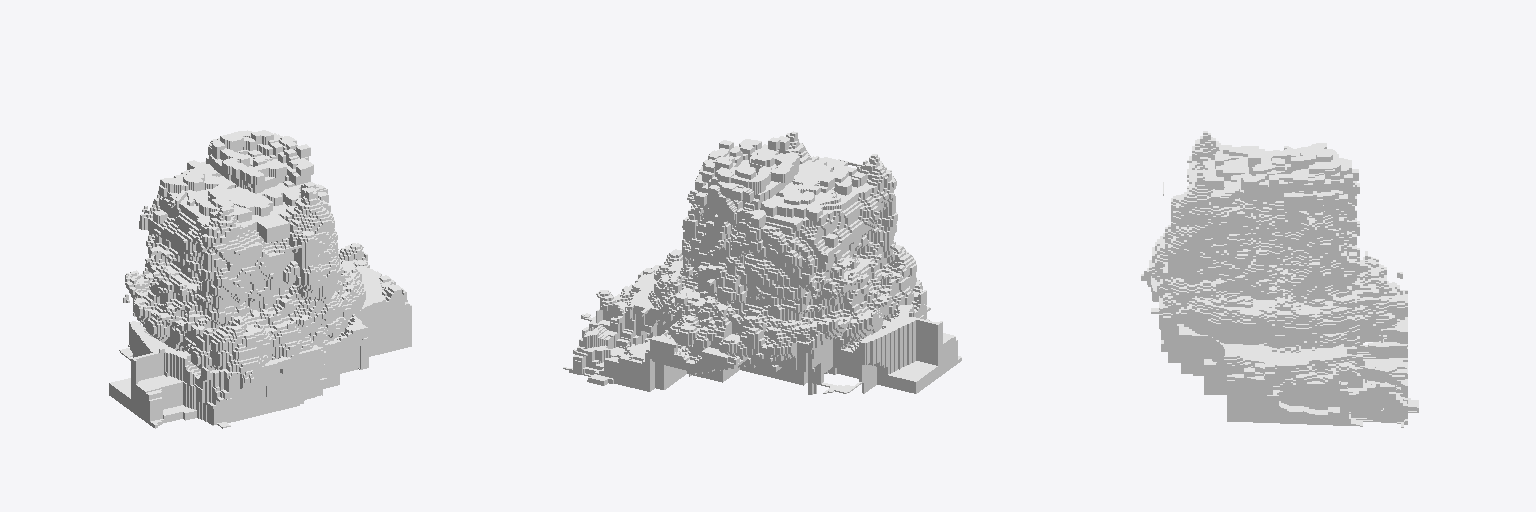
File: Lava_stuff-0.obj
3 views of the same model, side by side, from view 1: azimuth 30°, elevation 25°; view 2: azimuth 150°, elevation 25°; view 3: azimuth 270°, elevation 25° (orthographic).
Visible parts, largest first — view 1: object 1; view 2: object 1; view 3: object 1.
Part boxes in pixels (x1,y1,x2,y2): object 1: (109,130,411,428); object 1: (563,131,961,394); object 1: (1141,131,1418,427).
Size of the model in its own units: 25.6 by 17 by 20.8.